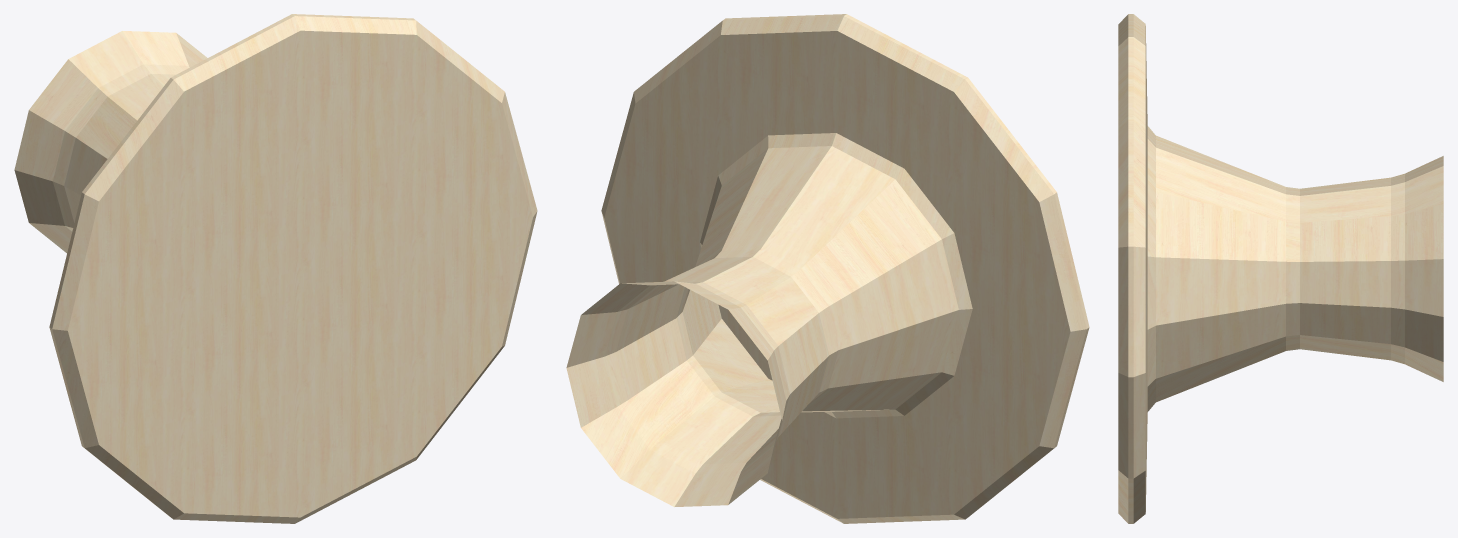
The picture shows the model from 3 angles, left to right: view 1: azimuth 30°, elevation 25°; view 2: azimuth 150°, elevation 25°; view 3: azimuth 270°, elevation 25°; orthographic projection. The views are drawn at different scales.
Parts seen in each view (by area): view 1: Cylinder001.001; view 2: Cylinder001.001; view 3: Cylinder001.001.
Part boxes in pixels (left/top/right/bottom): Cylinder001.001: left=14, top=14, right=537, bottom=523; Cylinder001.001: left=566, top=14, right=1089, bottom=523; Cylinder001.001: left=1118, top=14, right=1443, bottom=523.
Size of the model in its own units: 1.1 by 1.1 by 0.7.
Materials: 1 (1 with a texture image).
